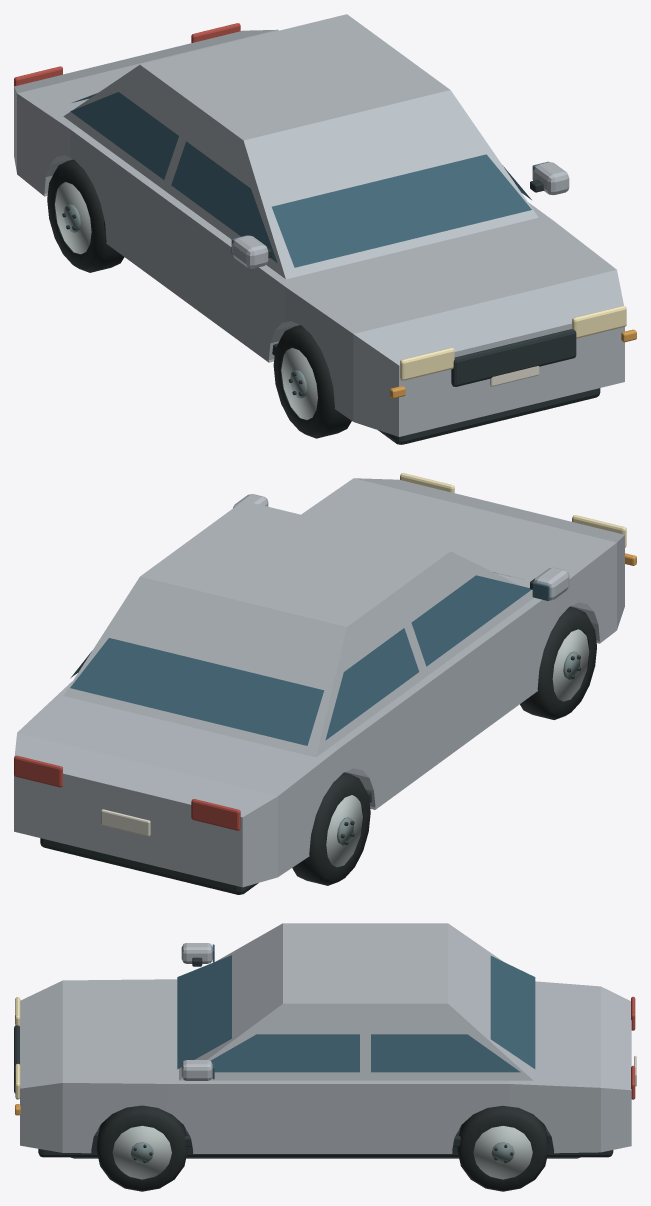
Rendered from original-car-compact-02.glb.
3 views of the same model, one above another, from view 1: azimuth 30°, elevation 25°; view 2: azimuth 150°, elevation 25°; view 3: azimuth 270°, elevation 25° (orthographic). The views are drawn at different scales.
Parts seen in each view (by area): view 1: BodyShell, CabinShell, Windscreen, WindowFront, WindowRear, Grille, Tyre_FR, Tyre_RR, Frame, Rim_RR, Rim_FR, Headlamp (+3 smaller); view 2: BodyShell, CabinShell, RearGlass, WindowFront, WindowRear, Tyre_RR, Tyre_FR, Frame, Rim_FR, Rim_RR, TailLamp, TailLamp.001 (+2 smaller); view 3: BodyShell, CabinShell, WindowFront.001, Windscreen, WindowRear.001, RearGlass, Tyre_FL, Tyre_RL, Frame, Rim_FL, Rim_RL, Underbody (+2 smaller).
Part boxes in pixels (left/top/right/bottom): BodyShell: left=14, top=29, right=624, bottom=436; CabinShell: left=63, top=14, right=538, bottom=279; Windscreen: left=272, top=154, right=531, bottom=267; WindowFront: left=171, top=141, right=277, bottom=262; WindowRear: left=70, top=92, right=178, bottom=179; Grille: left=451, top=329, right=576, bottom=386; Tyre_FR: left=273, top=325, right=351, bottom=438; Tyre_RR: left=47, top=159, right=124, bottom=272; Frame: left=378, top=388, right=600, bottom=444; Rim_RR: left=55, top=182, right=91, bottom=253; Rim_FR: left=281, top=347, right=317, bottom=419; Headlamp: left=400, top=348, right=454, bottom=380; BodyShell: left=14, top=478, right=624, bottom=887; CabinShell: left=63, top=500, right=533, bottom=757; RearGlass: left=70, top=638, right=324, bottom=745; WindowFront: left=411, top=575, right=531, bottom=666; WindowRear: left=325, top=628, right=419, bottom=740; Tyre_RR: left=292, top=772, right=370, bottom=885; Tyre_FR: left=520, top=606, right=596, bottom=719; Frame: left=40, top=838, right=258, bottom=894; Rim_FR: left=552, top=629, right=589, bottom=701; Rim_RR: left=326, top=795, right=362, bottom=867; TailLamp: left=191, top=799, right=240, bottom=830; TailLamp.001: left=14, top=755, right=62, bottom=787; BodyShell: left=20, top=979, right=631, bottom=1153; CabinShell: left=179, top=923, right=533, bottom=1080; WindowFront.001: left=211, top=1034, right=359, bottom=1072; Windscreen: left=177, top=955, right=231, bottom=1069; WindowRear.001: left=371, top=1034, right=520, bottom=1072; RearGlass: left=490, top=956, right=535, bottom=1068; Tyre_FL: left=96, top=1105, right=187, bottom=1191; Tyre_RL: left=457, top=1105, right=548, bottom=1191; Frame: left=38, top=1123, right=613, bottom=1157; Rim_FL: left=112, top=1125, right=171, bottom=1179; Rim_RL: left=473, top=1126, right=532, bottom=1179; Underbody: left=71, top=1157, right=580, bottom=1158.
Bounding box in the file's own units: 2.11 × 1.39 × 4.43.
